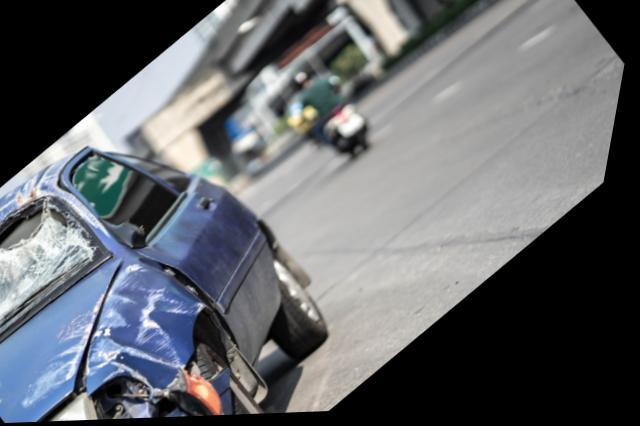dislocated part: (159, 310, 250, 420)
glass shatter: (0, 196, 117, 344)
no part: (108, 371, 164, 421)
scratch: (99, 263, 216, 394), (37, 291, 119, 412), (0, 157, 113, 235)
